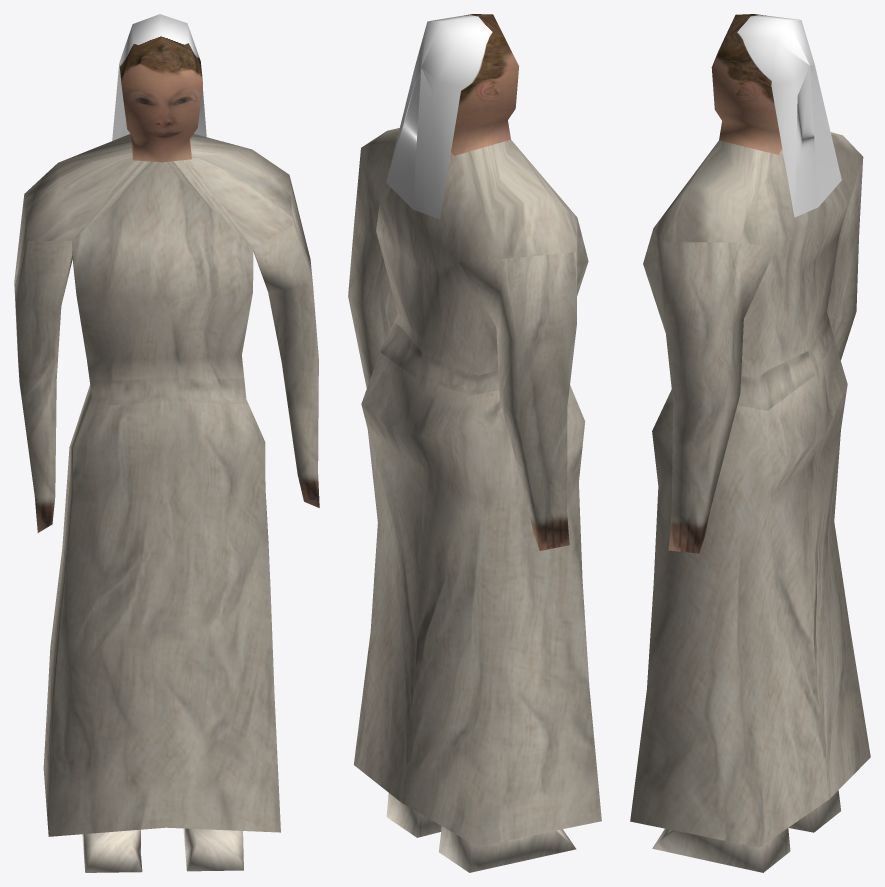
Rendered from lady1_18.fbx.
3 views of the same model, side by side, from view 1: azimuth 30°, elevation 25°; view 2: azimuth 150°, elevation 25°; view 3: azimuth 270°, elevation 25° (orthographic).
Parts seen in each view (by area): view 1: lady1_18; view 2: lady1_18; view 3: lady1_18.
Boxes of the visible parts, box(x1,y1,x2,y2) form: lady1_18: box(14, 14, 319, 872); lady1_18: box(348, 14, 601, 872); lady1_18: box(630, 14, 870, 872).
Size of the model in its own units: 12.23 by 36.09 by 9.58.
